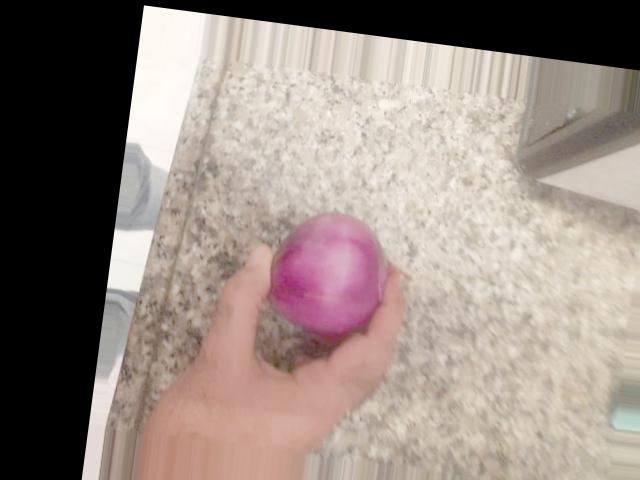onion: (381, 96, 514, 235)
